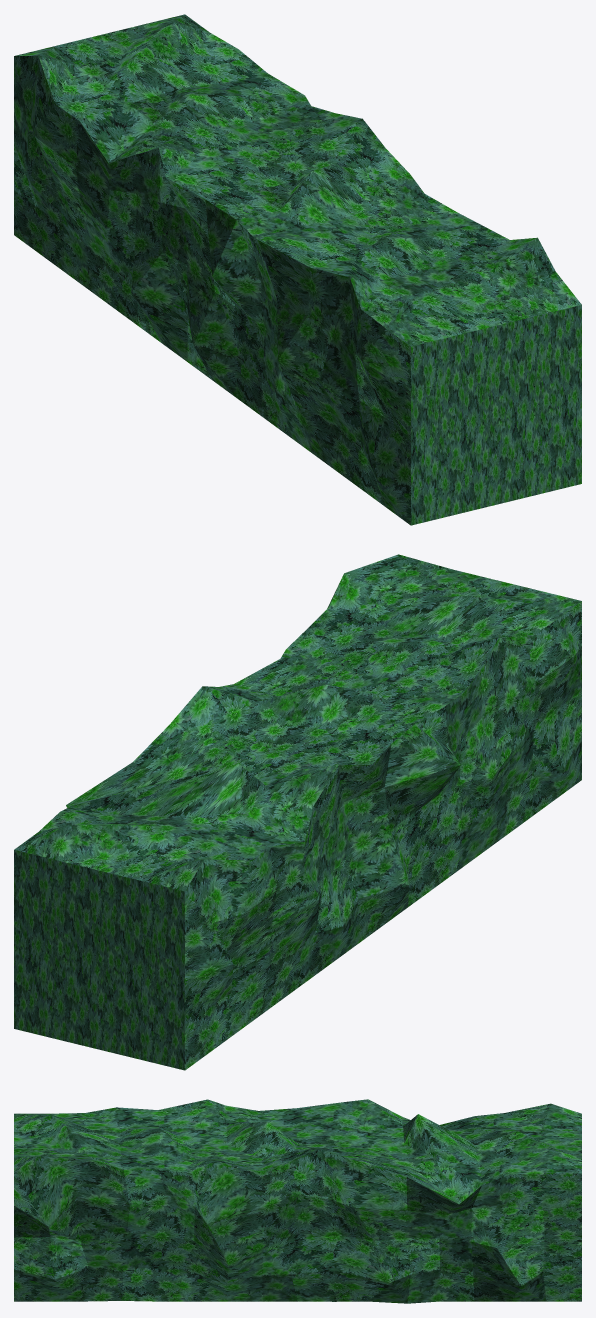
File: modul_1_ok.fbx
The picture shows the model from 3 angles, top to bottom: view 1: azimuth 30°, elevation 25°; view 2: azimuth 150°, elevation 25°; view 3: azimuth 270°, elevation 25°; orthographic projection. The views are drawn at different scales.
Visible parts, largest first — view 1: Cube; view 2: Cube; view 3: Cube.
Boxes of the visible parts, x1,y1,x2,y2 form: Cube: (14,14,581,525); Cube: (14,554,581,1070); Cube: (14,1099,581,1303).
Size of the model in its own units: 285 by 237 by 804.
